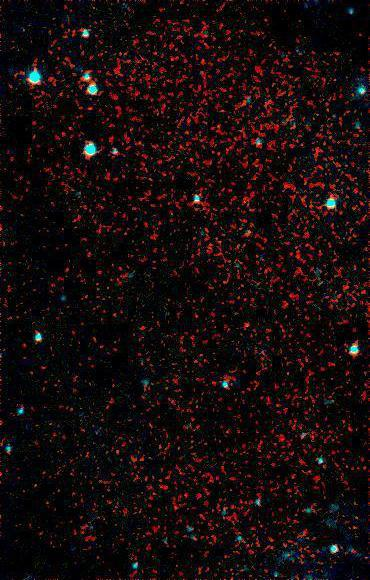star: (235, 307, 265, 337)
